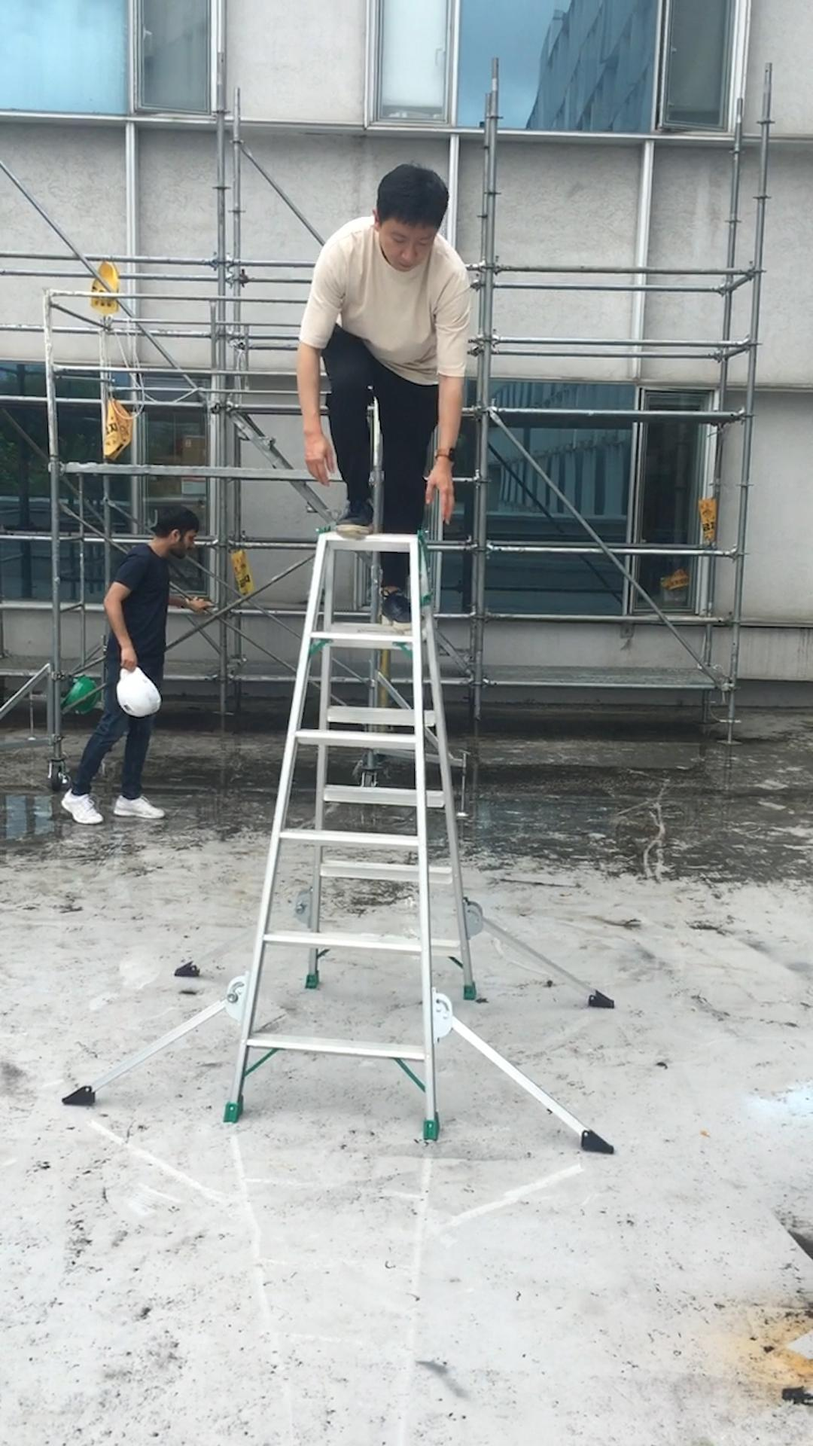Helmet: (116, 665, 164, 725)
Person: (294, 160, 472, 632), (58, 505, 214, 825)
Safety Boot: (110, 788, 164, 821), (372, 583, 413, 624), (57, 790, 101, 827), (327, 506, 377, 535)
bare-arms: (412, 463, 472, 524), (298, 435, 340, 481), (108, 634, 153, 676), (183, 592, 209, 617)
no-helmet: (361, 152, 465, 199), (144, 498, 207, 538)
no-vest: (340, 240, 451, 370), (118, 556, 171, 687)
